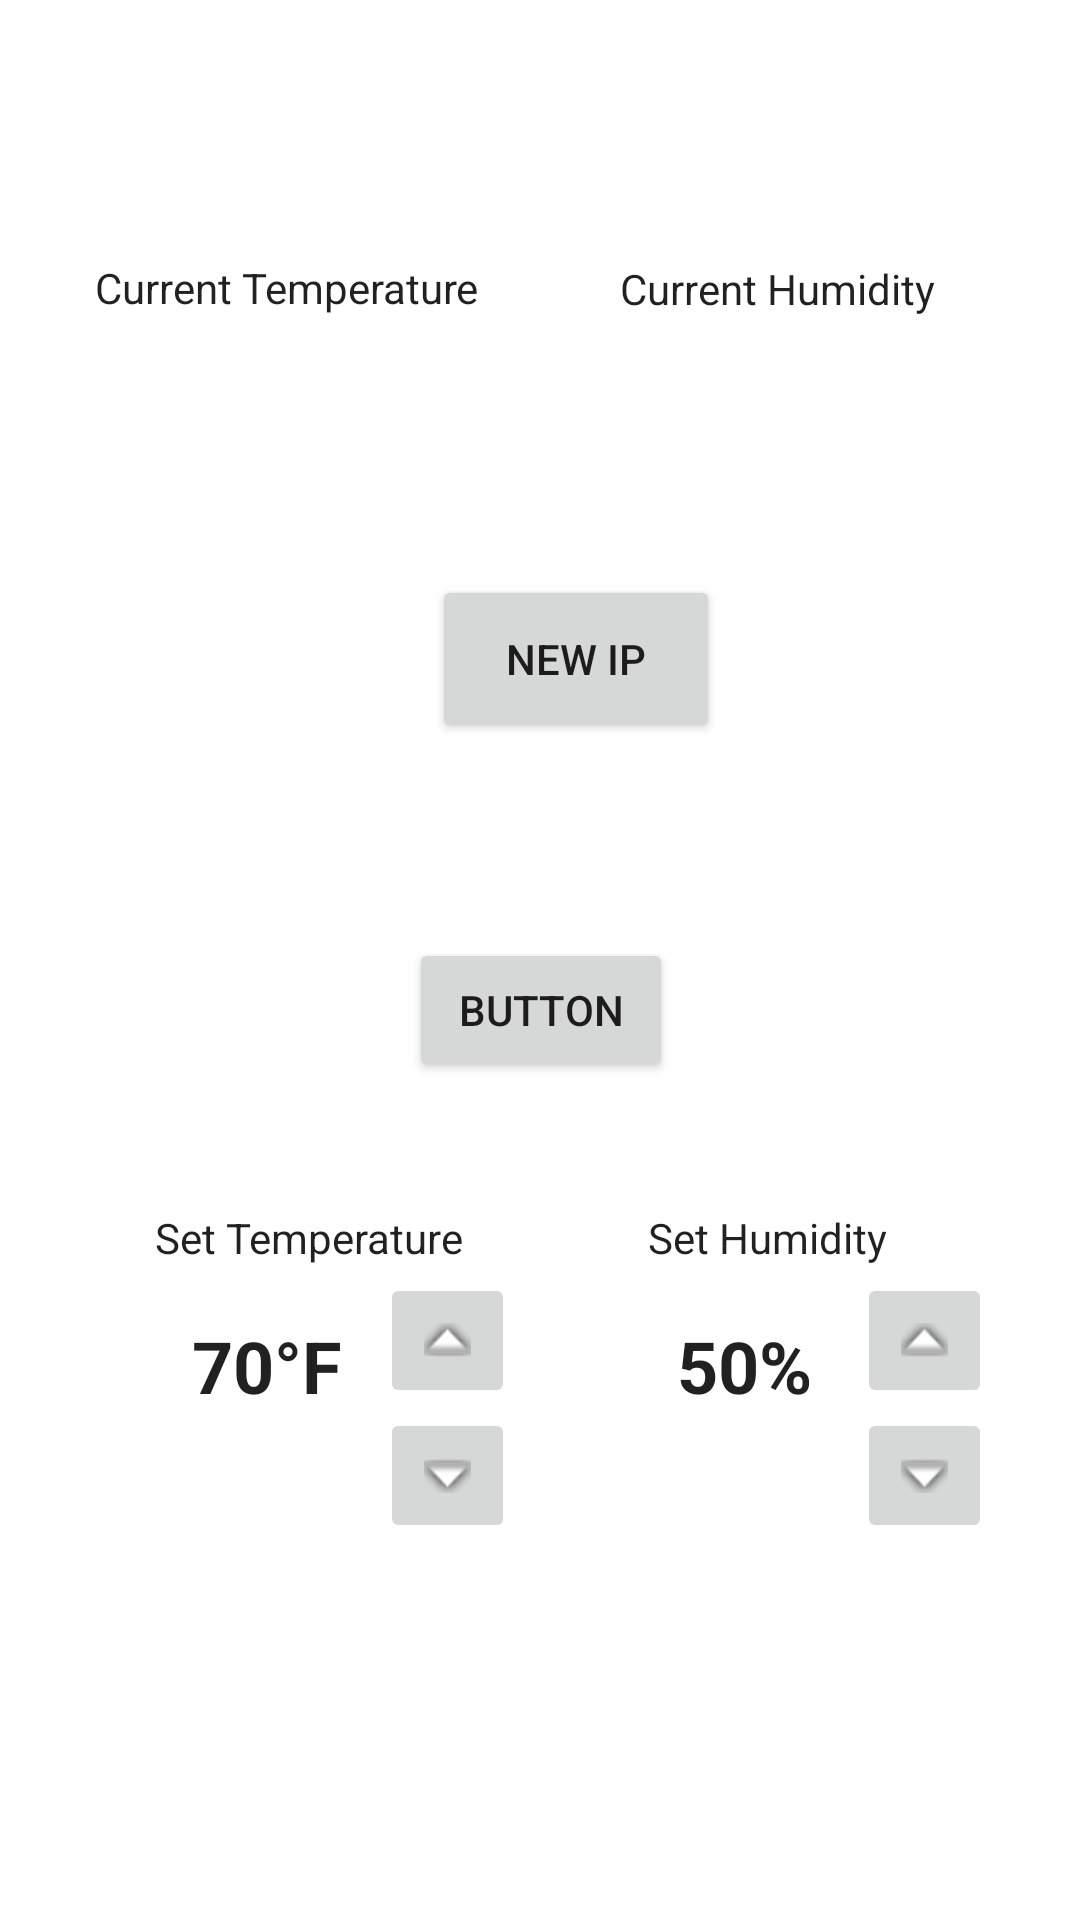

Icon click points for this 1080*1920 phone screenshot, format (x=x, y=y):
arrow down float: (x=447, y=1475), (x=924, y=1475)
arrow up float: (x=447, y=1340), (x=924, y=1340)
